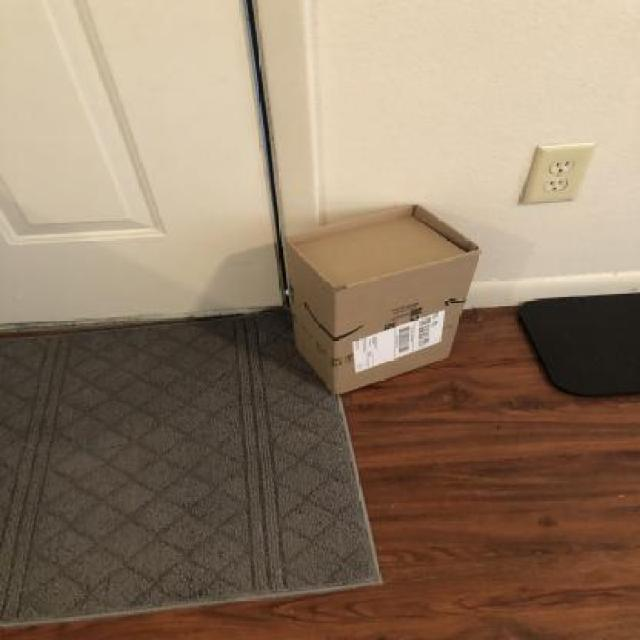cardboxes: (279, 201, 483, 401)
